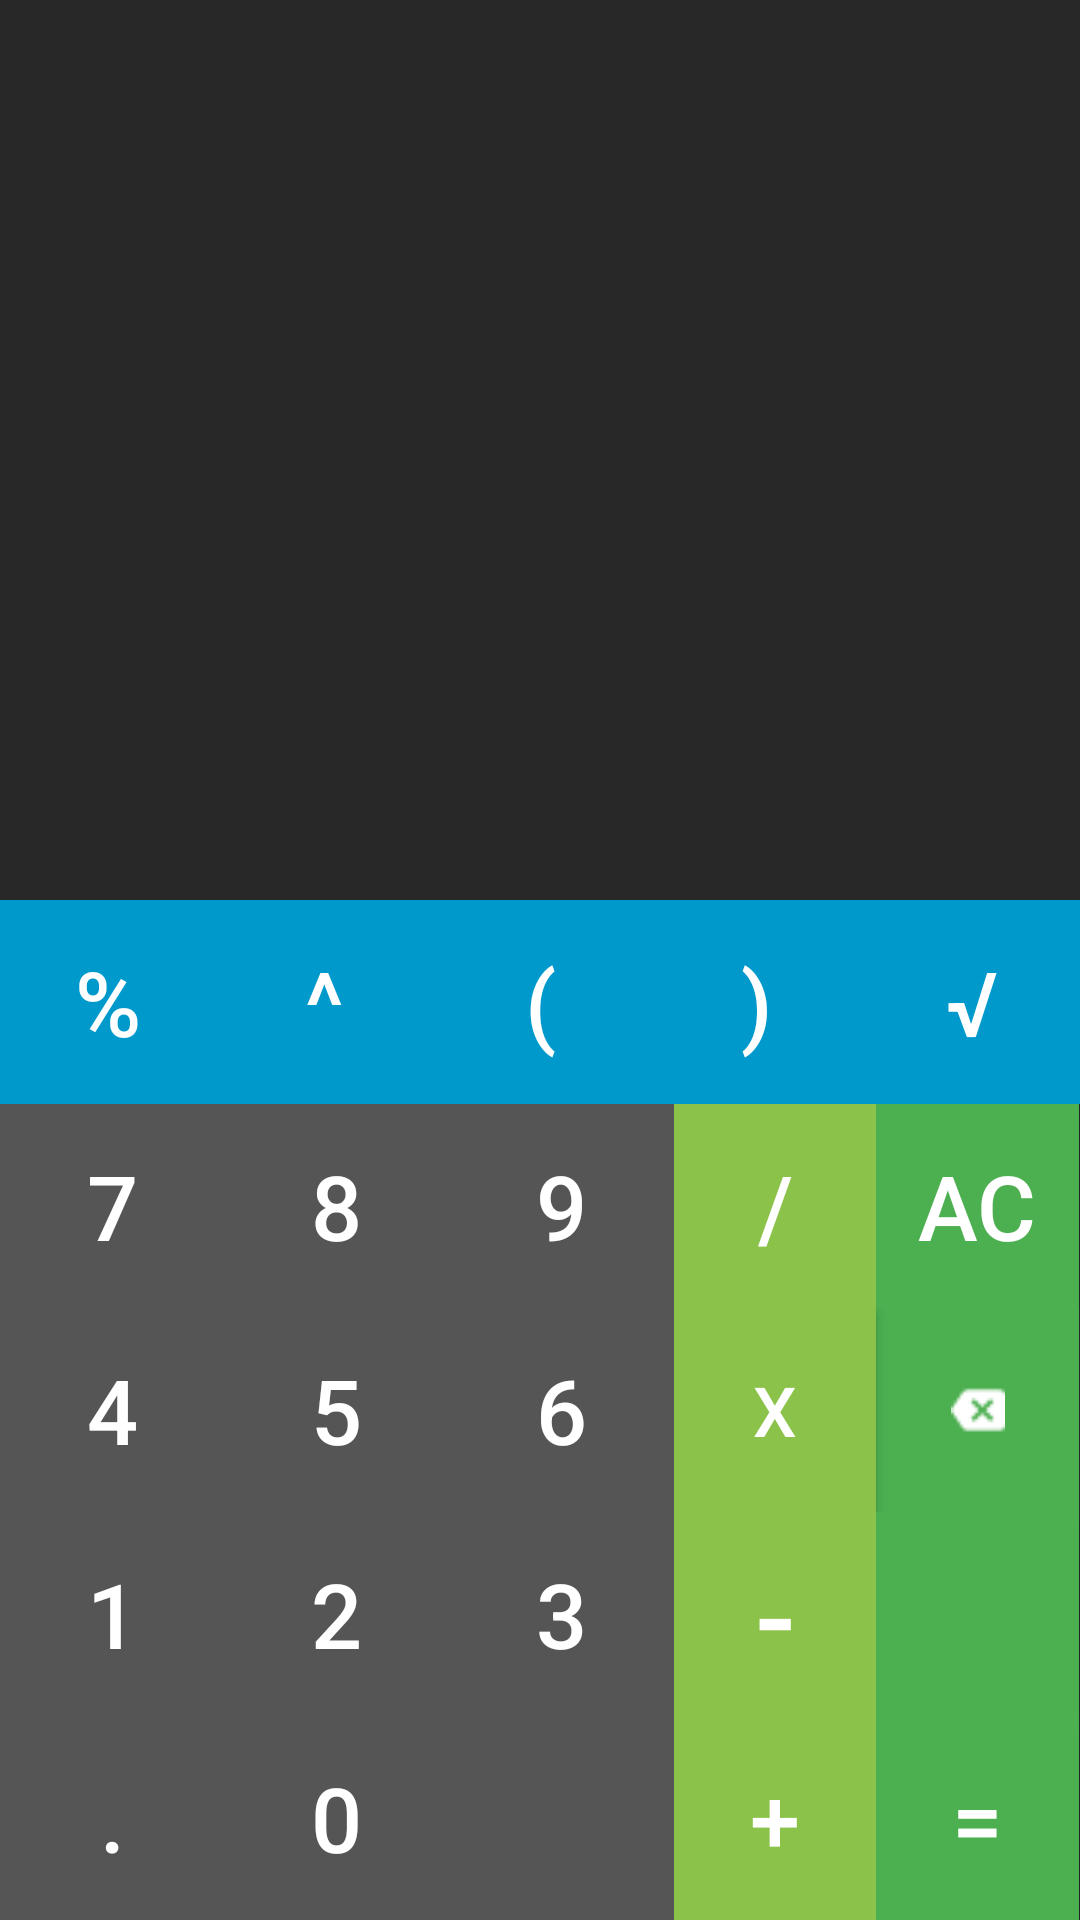

Where to tap for icons on this 1080px×1920px app screen, as point (x, y):
backspace: point (978, 1410)
